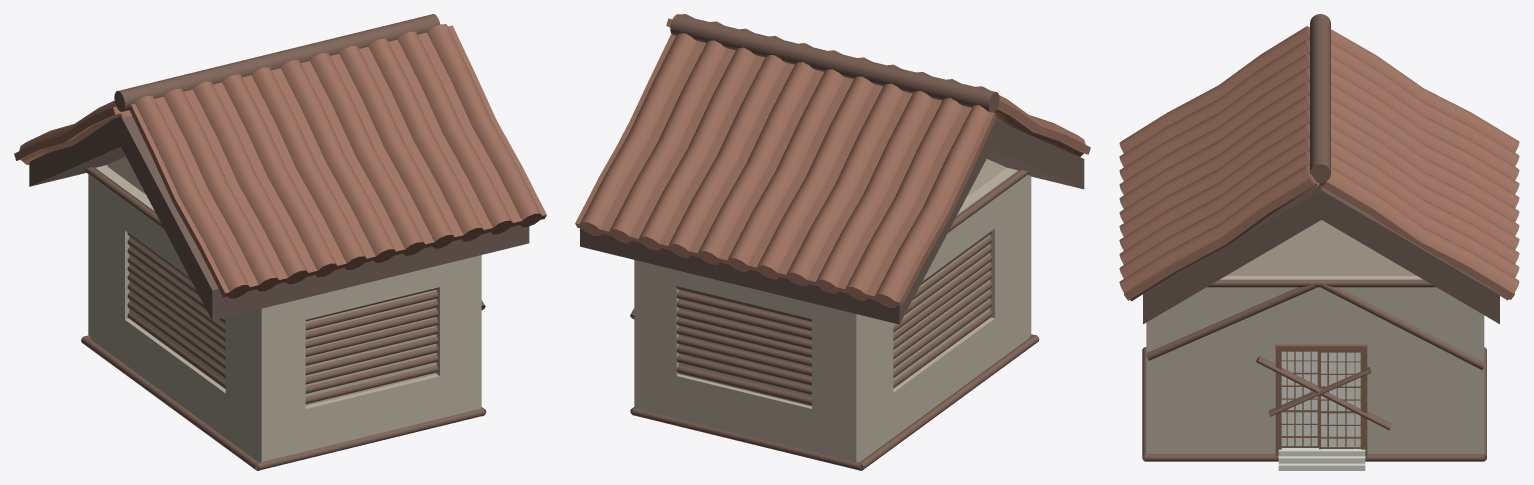
Rendered from Ninjahuis.fbx.
The picture shows the model from 3 angles, left to right: view 1: azimuth 30°, elevation 25°; view 2: azimuth 150°, elevation 25°; view 3: azimuth 270°, elevation 25°; orthographic projection. The views are drawn at different scales.
Parts seen in each view (by area): view 1: Circle.001, Cube, Plane.002, Cylinder, Cylinder.022, Cylinder.026, Cylinder.002, Cylinder.005, Cylinder.007, Cylinder.001, Cylinder.006, Cylinder.008 (+12 smaller); view 2: Circle.001, Cube, Plane.002, Cylinder, Cylinder.026, Cylinder.023, Cylinder.017, Cylinder.020, Cylinder.012, Cylinder.013, Cylinder.014, Cylinder.015 (+13 smaller); view 3: Circle.001, Cube, Plane.002, Plane, Plane.004, Cylinder, Plane.003, Cube.001, Cylinder.024, Plane.005, Cylinder.038, Cylinder.003 (+4 smaller).
Boxes of the visible parts, <box> form: Circle.001: <box>14,24,546,298</box>; Cube: <box>88,165,481,462</box>; Plane.002: <box>29,115,529,320</box>; Cylinder: <box>114,14,439,111</box>; Cylinder.022: <box>256,408,484,470</box>; Cylinder.026: <box>81,336,259,470</box>; Cylinder.002: <box>305,300,438,339</box>; Cylinder.005: <box>305,327,438,365</box>; Cylinder.007: <box>305,345,438,384</box>; Cylinder.001: <box>305,291,438,330</box>; Cylinder.006: <box>305,336,438,375</box>; Cylinder.008: <box>305,355,438,393</box>; Circle.001: <box>575,14,1090,307</box>; Cube: <box>634,167,1031,462</box>; Plane.002: <box>580,120,1084,324</box>; Cylinder: <box>670,14,999,112</box>; Cylinder.026: <box>859,335,1039,470</box>; Cylinder.023: <box>632,408,861,470</box>; Cylinder.017: <box>676,336,811,376</box>; Cylinder.020: <box>676,365,811,405</box>; Cylinder.012: <box>676,291,811,330</box>; Cylinder.013: <box>676,300,811,339</box>; Cylinder.014: <box>676,309,811,349</box>; Cylinder.015: <box>676,318,811,357</box>; Circle.001: <box>1119,26,1519,301</box>; Cube: <box>1146,276,1484,453</box>; Plane.002: <box>1143,183,1499,324</box>; Plane: <box>1280,351,1360,465</box>; Plane.004: <box>1226,220,1416,275</box>; Cylinder: <box>1310,14,1330,183</box>; Plane.003: <box>1281,351,1361,449</box>; Cube.001: <box>1275,344,1367,456</box>; Cylinder.024: <box>1144,454,1484,461</box>; Plane.005: <box>1278,448,1365,470</box>; Cylinder.038: <box>1207,279,1435,287</box>; Cylinder.003: <box>1146,283,1316,360</box>.
Bounding box in the file's own units: 8.23 × 7.71 × 8.75.
